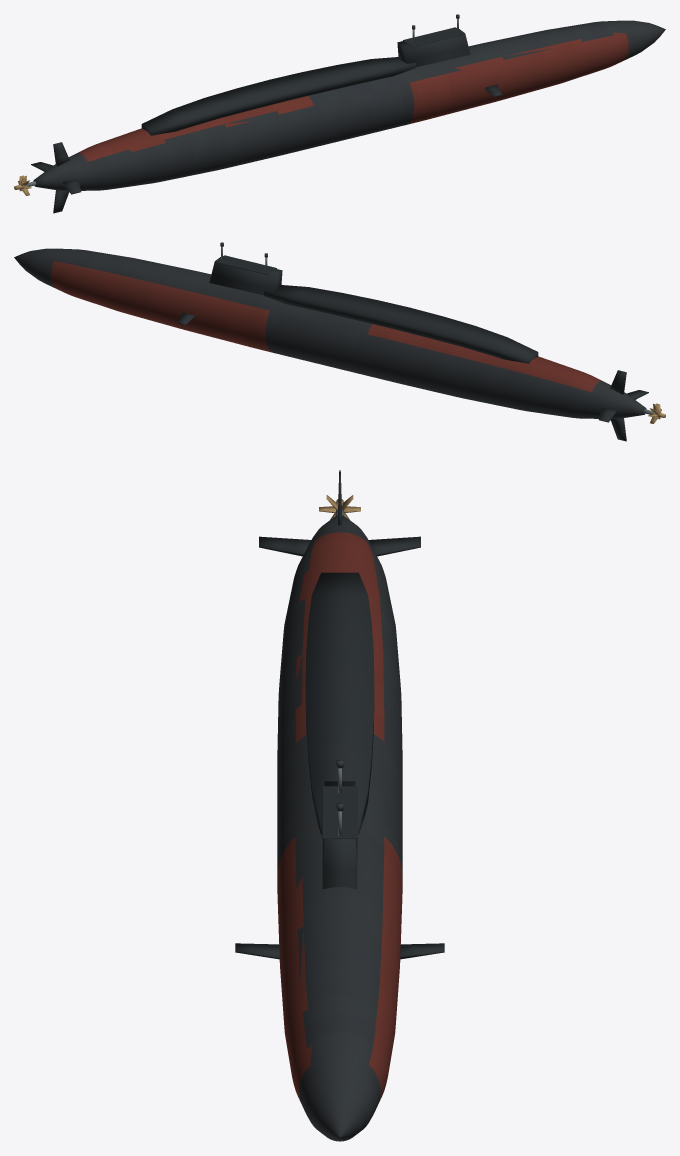
The model's file is US_SSBN_GeorgeWashington_LOD1.fbx.
The picture shows the model from 3 angles, top to bottom: view 1: azimuth 30°, elevation 25°; view 2: azimuth 150°, elevation 25°; view 3: azimuth 270°, elevation 25°; orthographic projection. The views are drawn at different scales.
Parts seen in each view (by area): view 1: US_SSBN_GeorgeWashington_LOD1; view 2: US_SSBN_GeorgeWashington_LOD1; view 3: US_SSBN_GeorgeWashington_LOD1.
Boxes of the visible parts, <box> form: US_SSBN_GeorgeWashington_LOD1: <box>14,14,665,213</box>; US_SSBN_GeorgeWashington_LOD1: <box>14,242,665,441</box>; US_SSBN_GeorgeWashington_LOD1: <box>235,470,444,1141</box>.
Bounding box in the file's own units: 120 × 16.71 × 17.53.
Materials: 6 (1 with a texture image).
